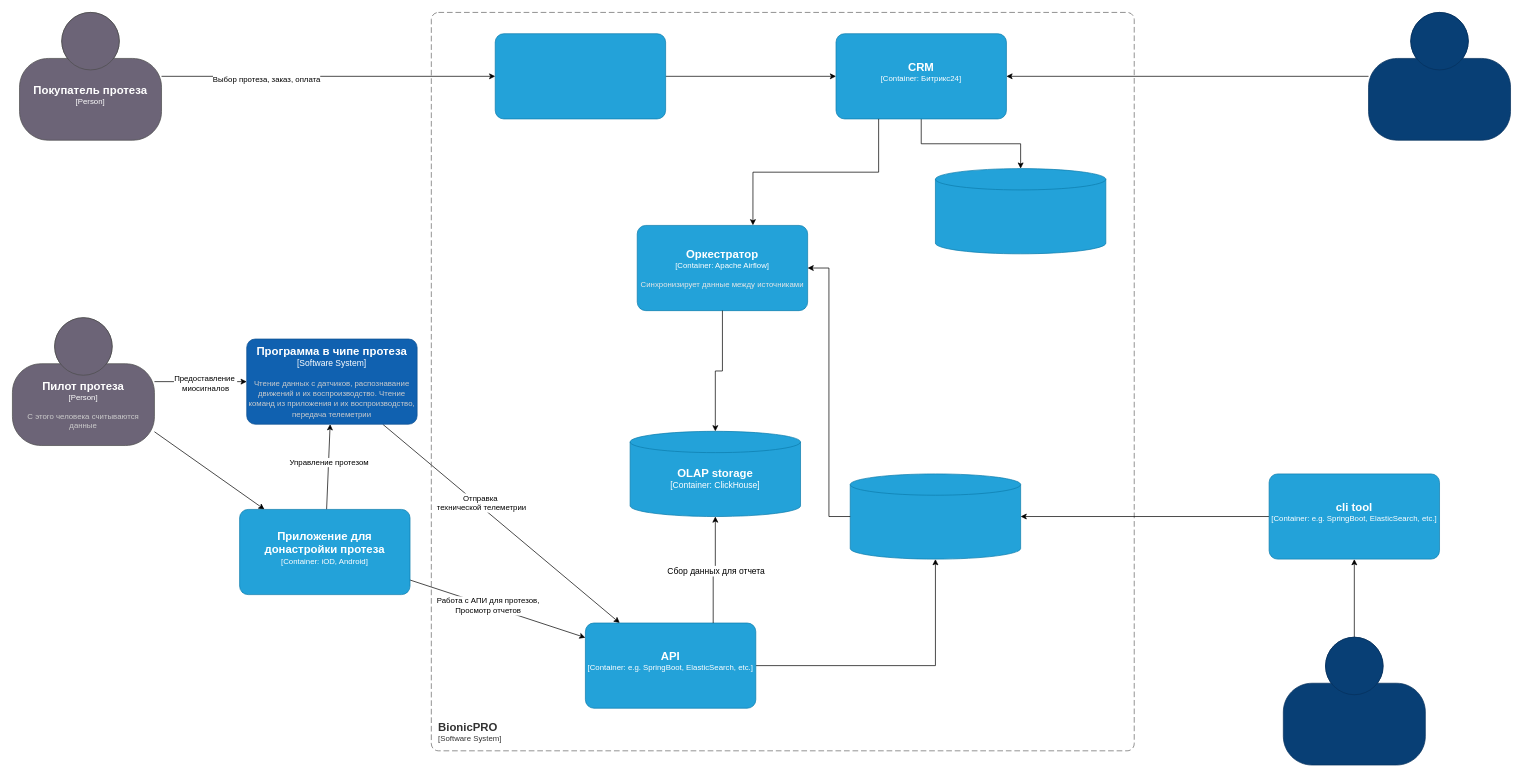
The diagram is 1523 pixels wide and 777 high, and some of its shapes have lost their labels. The shapes that lost their labels are listed below. From the top down, each one's centre as x and y in pixels, then its label:
At [580,76]: "Интернет-магазин [Container: Битрикс24]".
At [1439,76]: "Оператор производства [Person]".
At [1020,211]: "CRM DB [Container: e.g. Oracle Database 12]".
At [935,516]: "База данных [Container: PostgreSQL]".
At [1354,701]: "ML-инженер [Person]".
